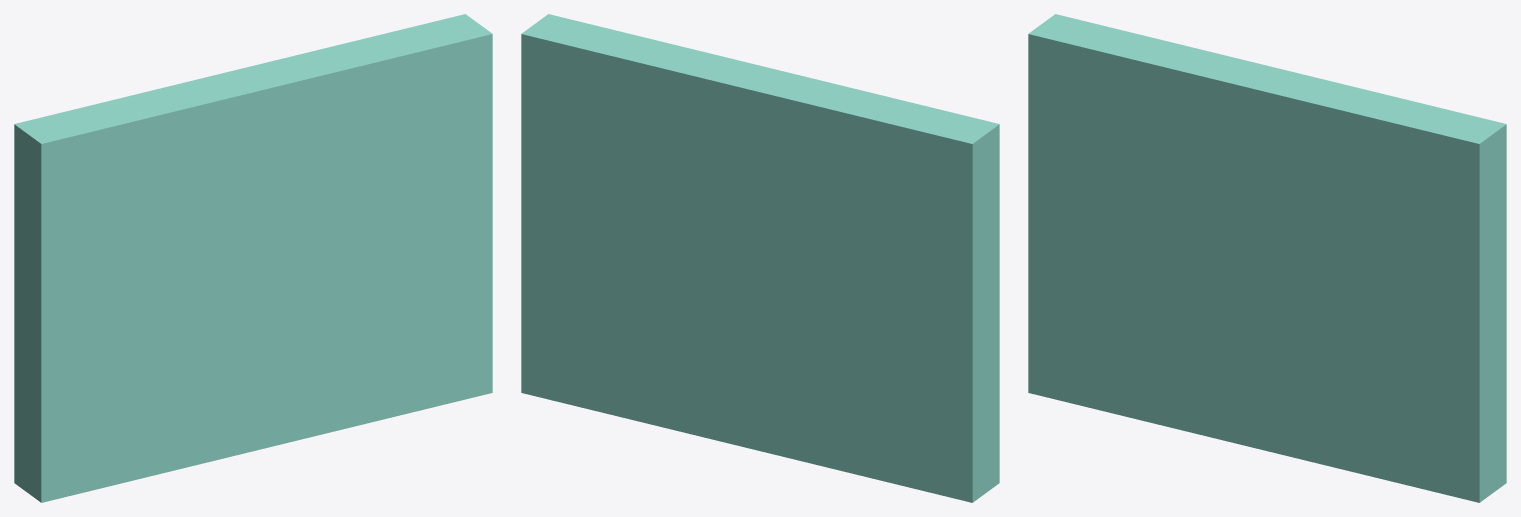
File: baracade_construction.dae
3 views of the same model, side by side, from view 1: azimuth 30°, elevation 25°; view 2: azimuth 150°, elevation 25°; view 3: azimuth 330°, elevation 25° (orthographic).
Visible parts, largest first — view 1: bounds; view 2: bounds; view 3: bounds.
Part boxes in pixels (box(x1,y1,x2,y2)): bounds: box(14, 14, 492, 502); bounds: box(521, 14, 999, 502); bounds: box(1028, 14, 1506, 502).
Size of the model in its own units: 149 by 15.64 by 114.
